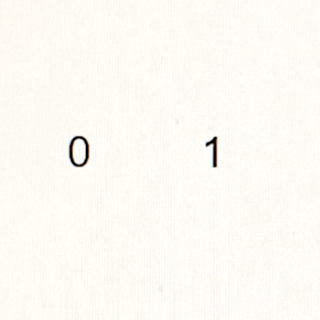one: (203, 133, 223, 171)
zero: (65, 133, 94, 169)
